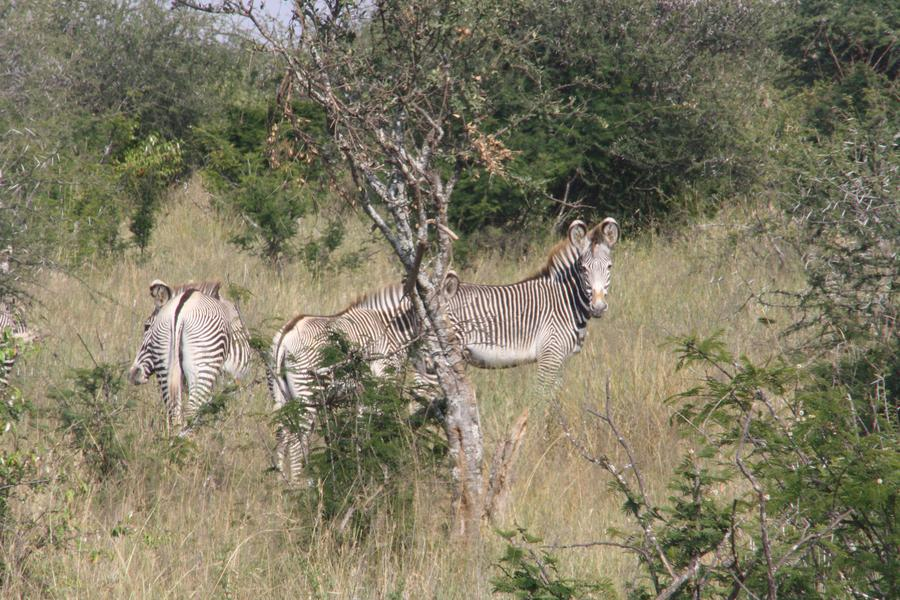zebra_grevys: (462, 274, 583, 359)
